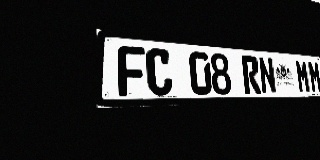0: (188, 51, 212, 95)
8: (210, 53, 232, 95)
C: (146, 48, 173, 96)
F: (117, 45, 147, 96)
M: (295, 60, 311, 93), (307, 61, 320, 93)
N: (258, 57, 277, 94)
R: (241, 55, 261, 94)
